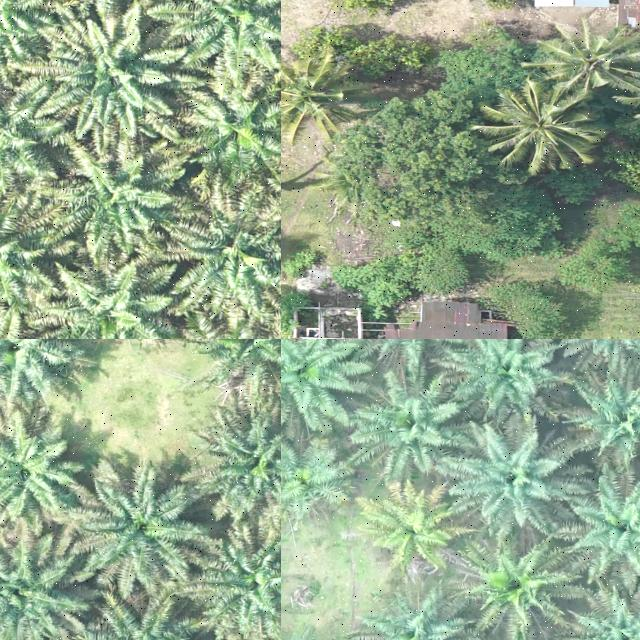Ganoderma: (374, 498, 449, 562), (480, 552, 550, 616)
